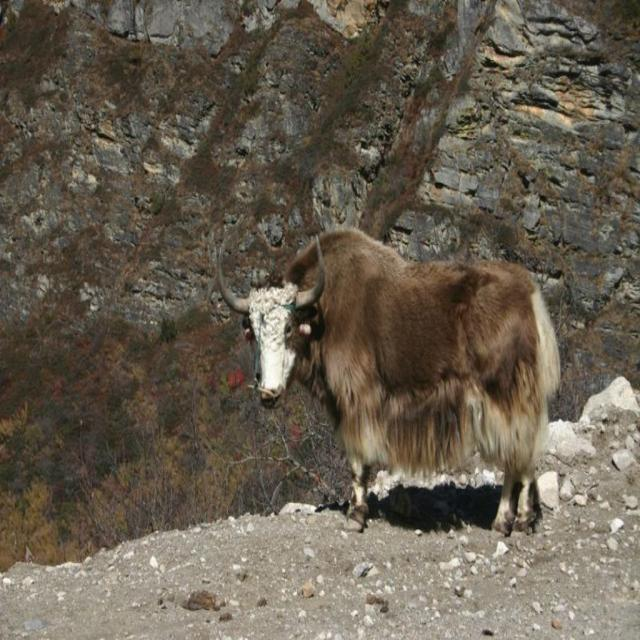Cattle: (214, 234, 562, 538)
